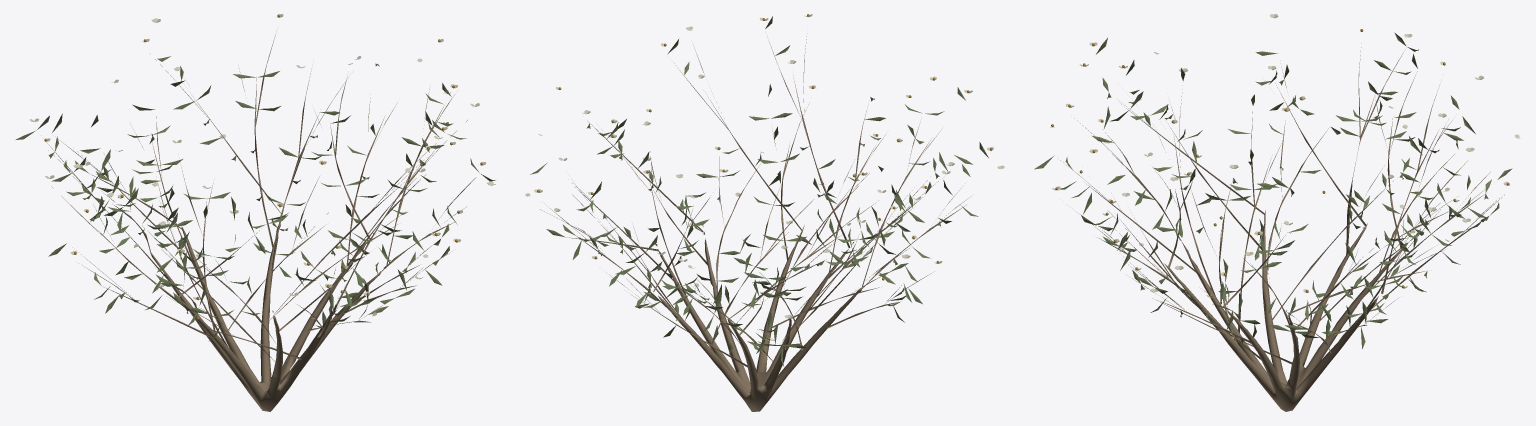
The model's file is Ciste_1_Niveau1.fbx.
3 views of the same model, side by side, from view 1: azimuth 30°, elevation 25°; view 2: azimuth 150°, elevation 25°; view 3: azimuth 270°, elevation 25° (orthographic). The views are drawn at different scales.
Parts seen in each view (by area): view 1: Ciste_1_Niveau1; view 2: Ciste_1_Niveau1; view 3: Ciste_1_Niveau1.
Boxes of the visible parts, left/top/right/bottom form: Ciste_1_Niveau1: left=15, top=14, right=495, bottom=411; Ciste_1_Niveau1: left=525, top=14, right=1004, bottom=411; Ciste_1_Niveau1: left=1034, top=14, right=1519, bottom=411.
Bounding box in the file's own units: 111 × 89.43 × 117.
